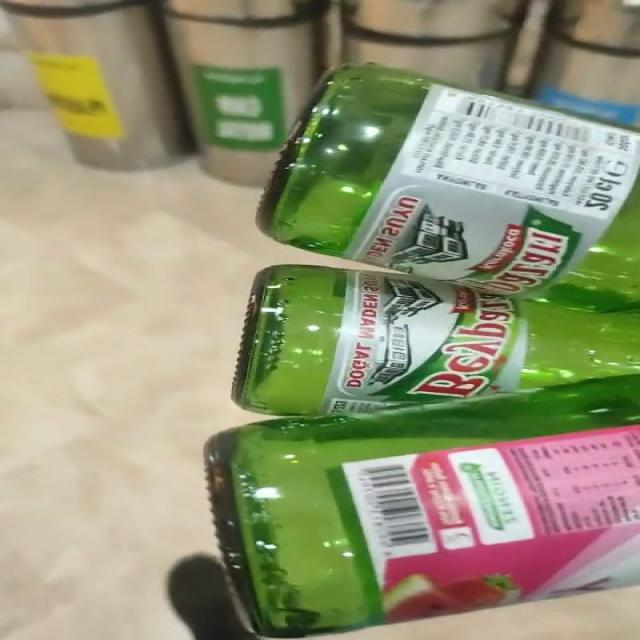glass: (205, 65, 639, 638)
